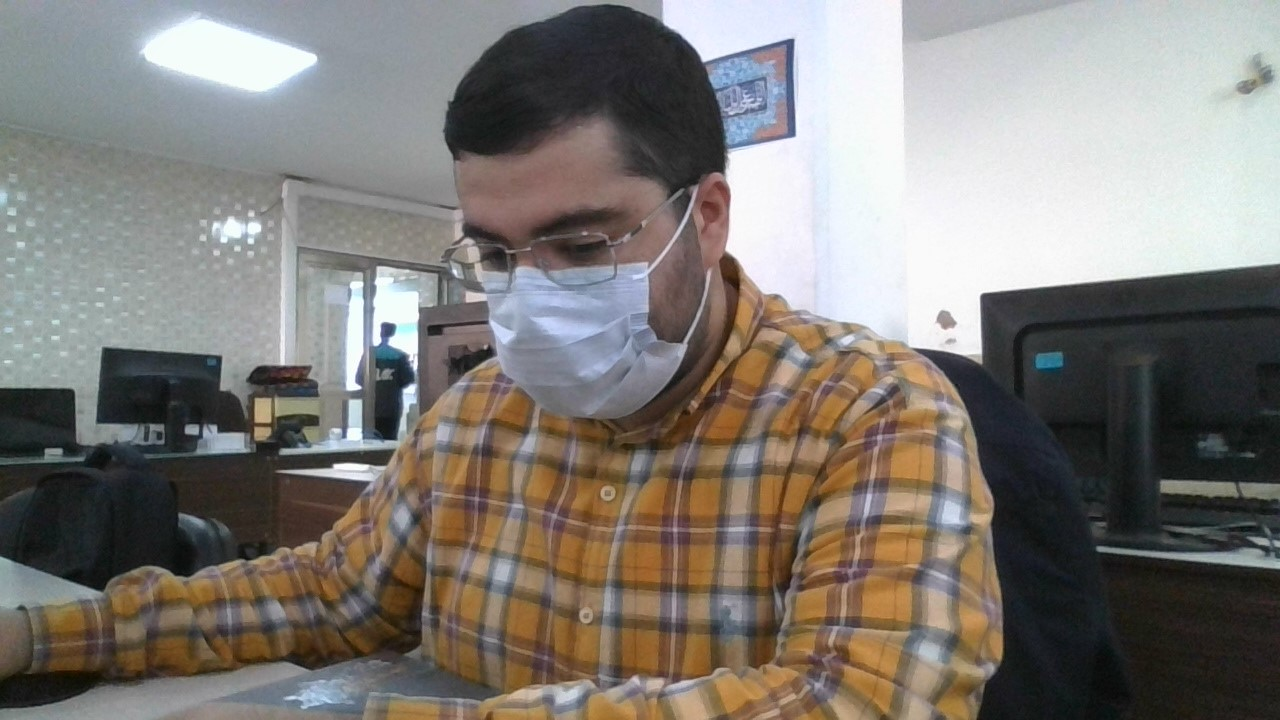Mask: (468, 261, 714, 420)
